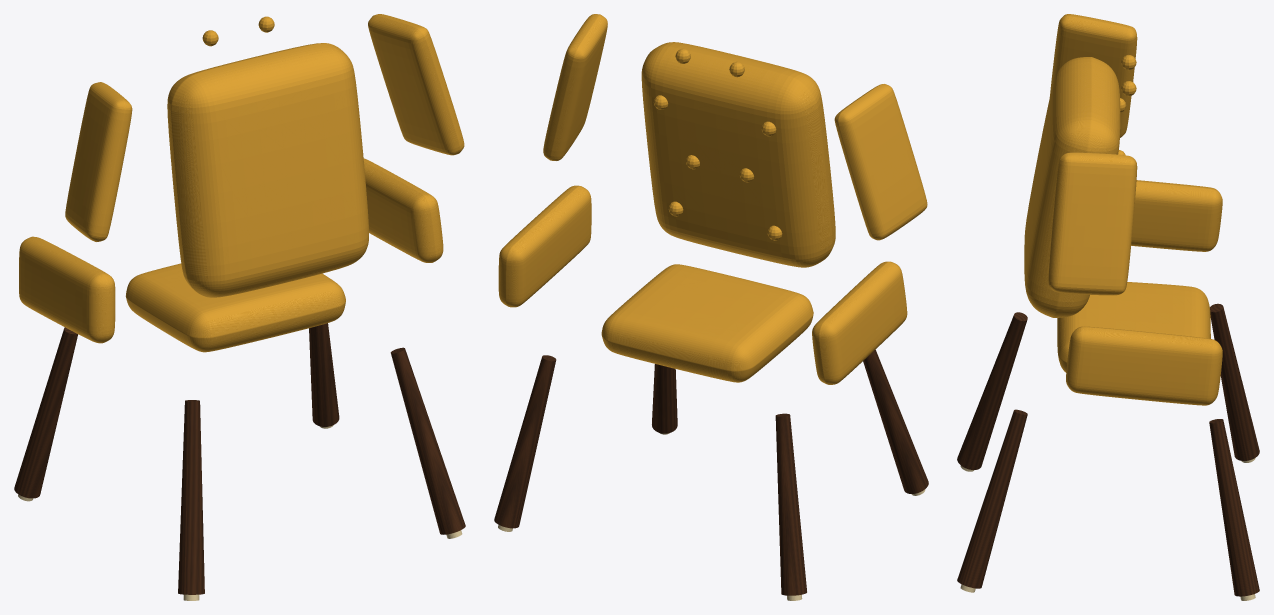
The model's file is mustard_wingback_armchair.glb.
3 renders of one model, left to right at view 1: azimuth 30°, elevation 25°; view 2: azimuth 150°, elevation 25°; view 3: azimuth 270°, elevation 25°, orthographic. The views are drawn at different scales.
Parts seen in each view (by area): view 1: Wingback_Backrest, Seat_Cushion, Wing_Right, Armrest_Left, Wing_Left, Armrest_Right, Leg_RL, Leg_RR, Leg_FL, Leg_FR; view 2: Wingback_Backrest, Seat_Cushion, Wing_Left, Armrest_Left, Armrest_Right, Wing_Right, Leg_FL, Leg_FR, Leg_RL, Leg_RR; view 3: Wingback_Backrest, Wing_Right, Armrest_Right, Seat_Cushion, Armrest_Left, Wing_Left, Leg_RR, Leg_FR, Leg_RL, Leg_FL.
Part boxes in pixels (x1,y1,x2,y2): Wingback_Backrest: (167,43,368,297); Seat_Cushion: (125,263,345,352); Wing_Right: (368,14,464,155); Armrest_Left: (19,236,115,343); Wing_Left: (65,82,132,241); Armrest_Right: (363,158,443,262); Leg_RL: (178,400,204,594); Leg_RR: (390,347,465,534); Leg_FL: (14,327,77,498); Leg_FR: (309,323,339,426); Wingback_Backrest: (641,42,835,267); Seat_Cushion: (601,264,813,382); Wing_Left: (834,84,927,240); Armrest_Left: (812,261,907,384); Armrest_Right: (498,185,591,307); Wing_Right: (543,14,607,160); Leg_FL: (775,413,806,595); Leg_FR: (494,355,556,528); Leg_RL: (863,350,928,493); Leg_RR: (652,364,677,433); Wingback_Backrest: (1024,57,1120,317); Wing_Right: (1048,152,1137,295); Armrest_Right: (1066,326,1222,405); Seat_Cushion: (1057,282,1210,372); Armrest_Left: (1131,180,1222,251); Wing_Left: (1049,14,1137,137); Leg_RR: (957,409,1027,588); Leg_FR: (1209,419,1259,596); Leg_RL: (957,312,1027,469); Leg_FL: (1210,303,1259,460).
Size of the model in its own units: 0.804 by 0.9915 by 0.5886.
Materials: 3 (2 with a texture image).
